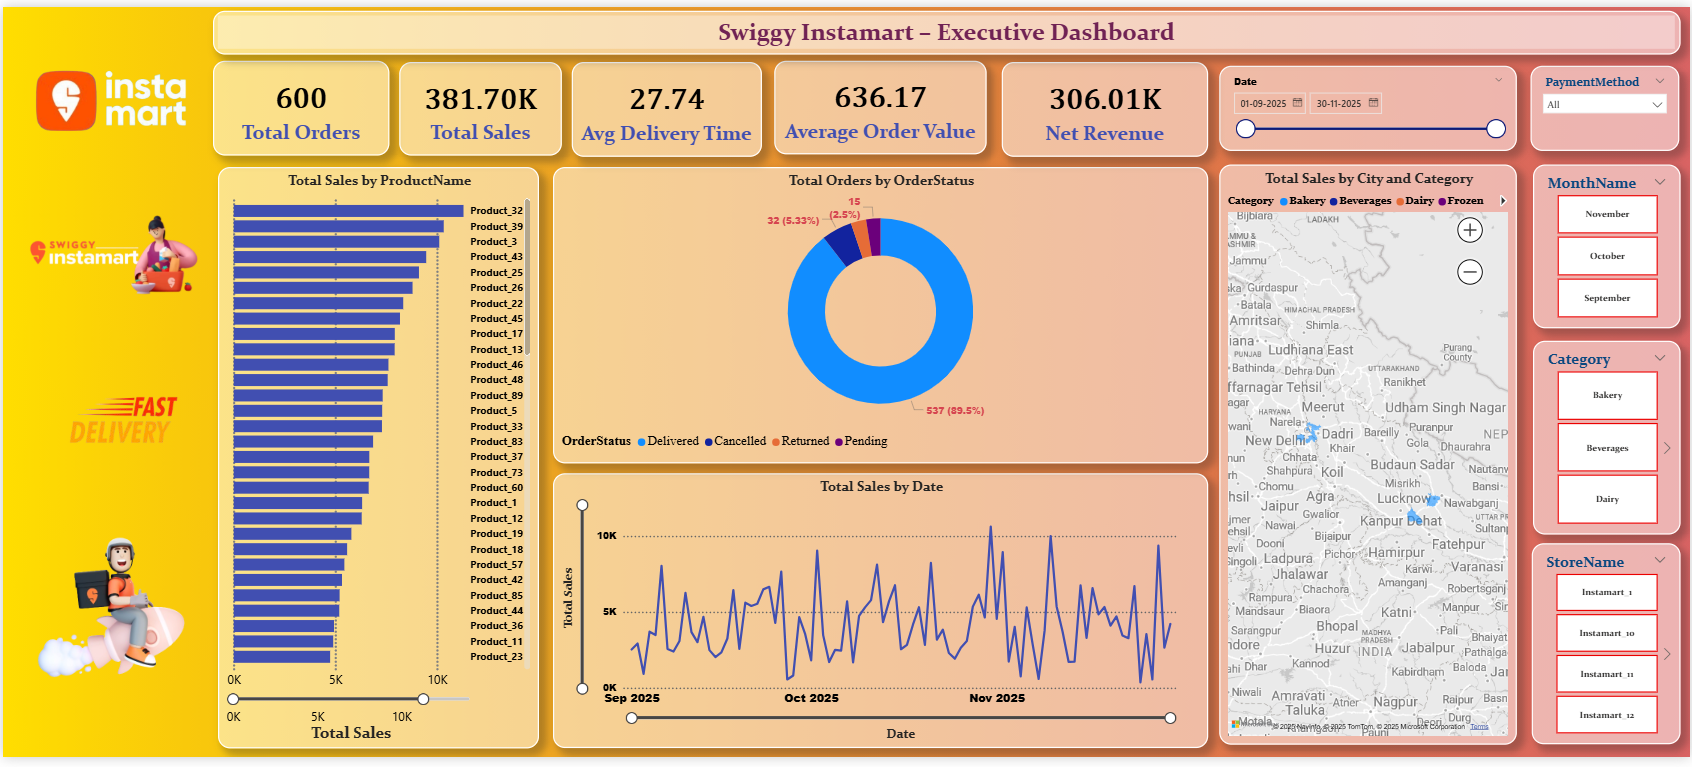

This screenshot's page, from the dashboard's own definition file:
{"tool":"powerbi","page":{"name":"Page 1","canvas":[2250,1000],"ordinal":0},"visuals":[{"type":"slicer","fields":{"Values":["DateDim.Date"]},"box":[1621.7,78.3,396.7,113.3],"z":0},{"type":"lineChart","fields":{"Y":["Orders.Total Sales"],"Category":["DateDim.Date"]},"box":[733.3,621.7,873.3,366.7],"z":1000},{"type":"donutChart","fields":{"Category":["Orders.OrderStatus"],"Y":["Orders.Total Orders"]},"box":[733.3,213.3,873.3,395],"z":2000},{"type":"filledMap","fields":{"Category":["Orders.City"],"Series":["Orders.Category"]},"box":[1621.7,210,396.7,773.3],"z":3000},{"type":"clusteredBarChart","fields":{"Category":["Orders.ProductName"],"Y":["Orders.Total Sales"]},"box":[286.7,213.3,428.3,775],"z":4000},{"type":"slicer","fields":{"Values":["DateDim.MonthName"]},"box":[2040,210,196.7,218.3],"z":5000},{"type":"slicer","fields":{"Values":["Orders.Category"]},"box":[2040,445,196.7,258.3],"z":6000},{"type":"slicer","fields":{"Values":["Orders.StoreName"]},"box":[2038.3,715,198.3,268.3],"z":7000},{"type":"card","fields":{"Values":["Orders.Total Orders"]},"box":[280,71.7,235,126.7],"z":8000},{"type":"card","fields":{"Values":["Orders.Total Sales"]},"box":[528.3,73.3,216.7,125],"z":9000},{"type":"card","fields":{"Values":["Orders.Average Order Value"]},"box":[1028.3,71.7,283.3,125],"z":10000},{"type":"card","fields":{"Values":["Orders.Avg Delivery Time"]},"box":[758.3,73.3,253.3,126.7],"z":11000},{"type":"card","fields":{"Values":["Orders.Net Revenue"]},"box":[1331.7,73.3,275,126.7],"z":12000},{"type":"image","box":[25,0,238.3,253.3],"z":13000},{"type":"slicer","fields":{"Values":["Orders.PaymentMethod"]},"box":[2036.7,78.3,198.3,113.3],"z":14000},{"type":"image","box":[26.7,160,238.3,340],"z":15000},{"type":"image","box":[25,608.3,261.7,380],"z":16000},{"type":"image","box":[0,398.3,321.7,295],"z":17000},{"type":"shape","box":[280,5,1956.7,58.3],"z":18000}]}

Visuals, with their boxes in screenshot pixels (x1, y1, x2, y2), scaled from the page's 2250x1000 canvas onto the 1692x767 screenshot:
slicer - DateDim.Date: locate(1220, 60, 1518, 147)
lineChart - Orders.Total Sales x DateDim.Date: locate(551, 477, 1208, 758)
donutChart - Orders.OrderStatus x Orders.Total Orders: locate(551, 164, 1208, 467)
filledMap - Orders.City x Orders.Category: locate(1220, 161, 1518, 754)
clusteredBarChart - Orders.ProductName x Orders.Total Sales: locate(216, 164, 538, 758)
slicer - DateDim.MonthName: locate(1534, 161, 1682, 329)
slicer - Orders.Category: locate(1534, 341, 1682, 539)
slicer - Orders.StoreName: locate(1533, 548, 1682, 754)
card - Orders.Total Orders: locate(211, 55, 387, 152)
card - Orders.Total Sales: locate(397, 56, 560, 152)
card - Orders.Average Order Value: locate(773, 55, 986, 151)
card - Orders.Avg Delivery Time: locate(570, 56, 761, 153)
card - Orders.Net Revenue: locate(1001, 56, 1208, 153)
image: locate(19, 0, 198, 194)
slicer - Orders.PaymentMethod: locate(1532, 60, 1681, 147)
image: locate(20, 123, 199, 384)
image: locate(19, 467, 216, 758)
image: locate(0, 305, 242, 532)
shape: locate(211, 4, 1682, 49)
